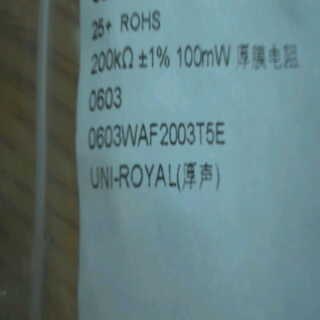200kR: (85, 42, 137, 77)
